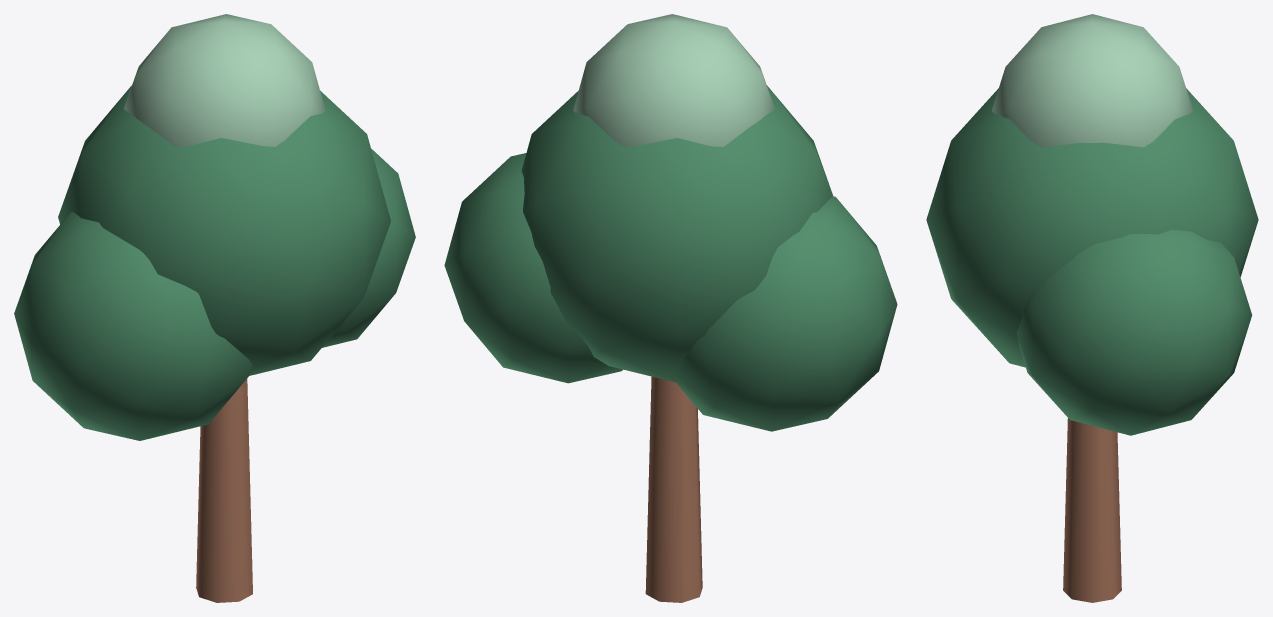
File: deco_tree.glb
The picture shows the model from 3 angles, left to right: view 1: azimuth 30°, elevation 25°; view 2: azimuth 150°, elevation 25°; view 3: azimuth 270°, elevation 25°; orthographic projection.
Parts seen in each view (by area): view 1: deco_tree; view 2: deco_tree; view 3: deco_tree.
Part boxes in pixels (bbox=[...]): deco_tree: bbox=[14, 14, 415, 602]; deco_tree: bbox=[444, 14, 897, 602]; deco_tree: bbox=[926, 14, 1258, 602].
Bounding box in the file's own units: 3.55 × 4.9 × 2.6.
